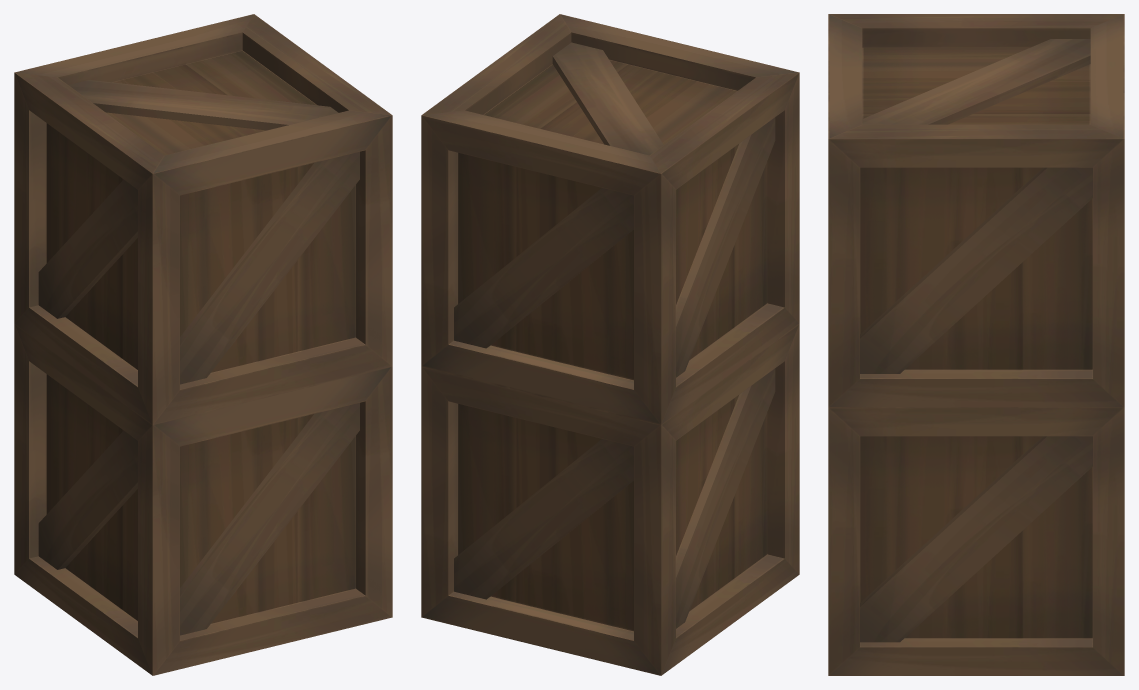
Rendered from twoBoxes.fbx.
The picture shows the model from 3 angles, left to right: view 1: azimuth 30°, elevation 25°; view 2: azimuth 150°, elevation 25°; view 3: azimuth 270°, elevation 25°; orthographic projection. The views are drawn at different scales.
Visible parts, largest first — view 1: twoCube; view 2: twoCube; view 3: twoCube.
Boxes of the visible parts, bbox=[...] form: twoCube: bbox=[14, 14, 392, 675]; twoCube: bbox=[421, 14, 799, 675]; twoCube: bbox=[828, 14, 1124, 675].
Bounding box in the file's own units: 212 × 423 × 212.
